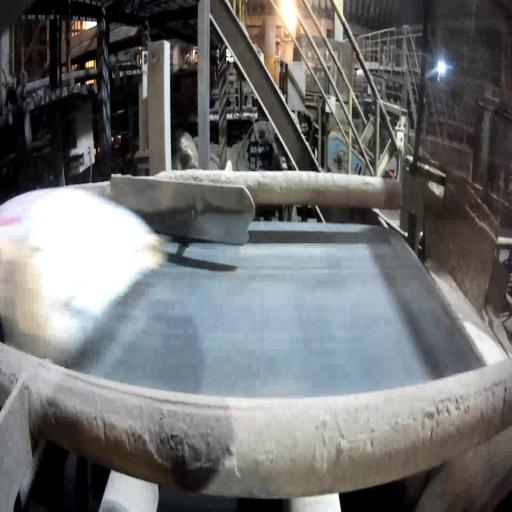c-belt-sack-count: (0, 188, 166, 363)
